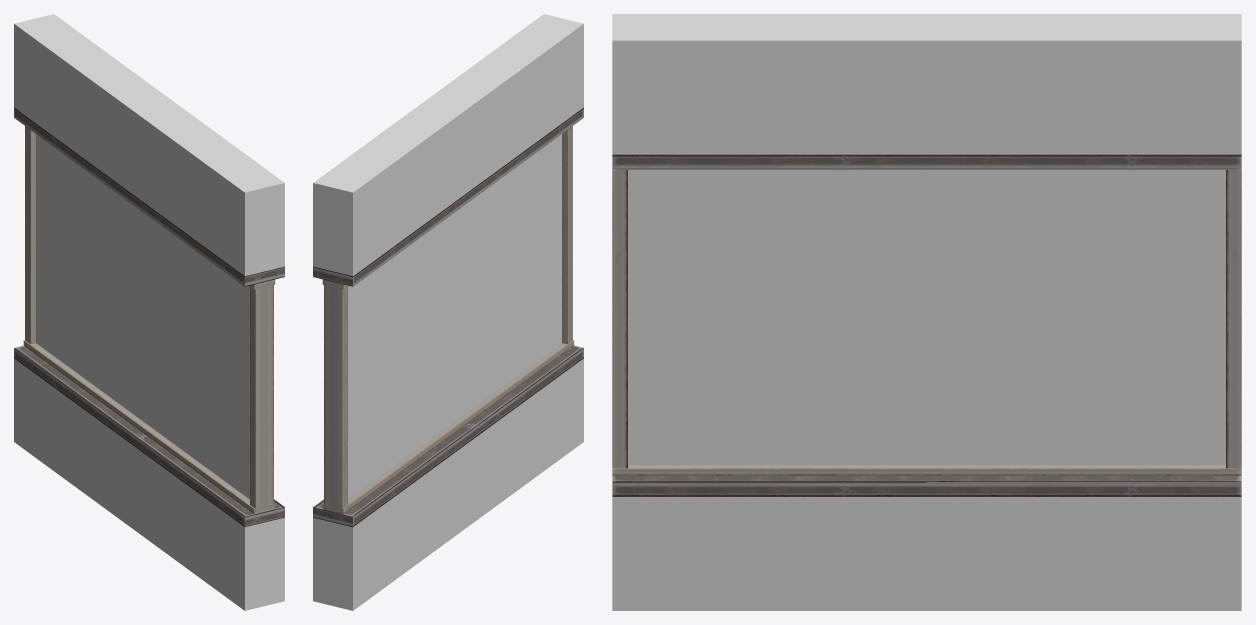
File: SM_ENV_WINDOW_4.fbx
3 views of the same model, side by side, from view 1: azimuth 30°, elevation 25°; view 2: azimuth 150°, elevation 25°; view 3: azimuth 270°, elevation 25° (orthographic). The views are drawn at different scales.
Visible parts, largest first — view 1: SM_ENV_WINDOW_4; view 2: SM_ENV_WINDOW_4; view 3: SM_ENV_WINDOW_4.
Boxes of the visible parts, x1,y1,x2,y2 form: SM_ENV_WINDOW_4: (14,14,284,610); SM_ENV_WINDOW_4: (313,14,583,610); SM_ENV_WINDOW_4: (612,14,1241,610).
Size of the model in its own units: 0.4 by 4 by 4.
